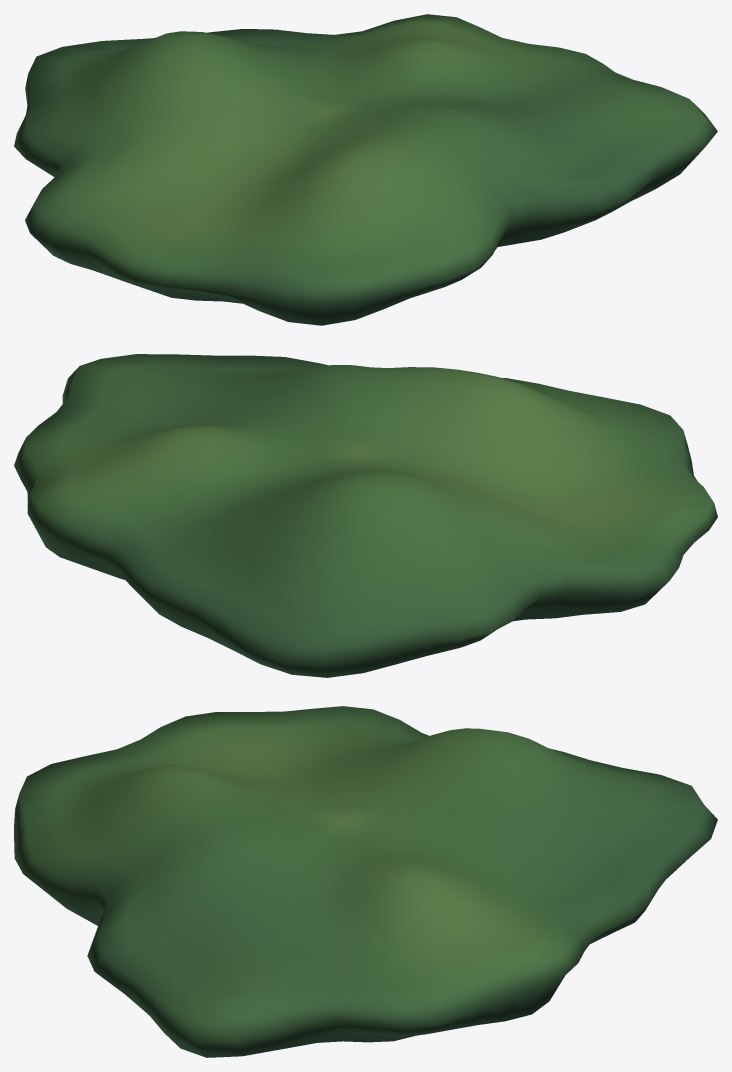
Rendered from ForestCore_A.fbx.
3 views of the same model, one above another, from view 1: azimuth 30°, elevation 25°; view 2: azimuth 150°, elevation 25°; view 3: azimuth 270°, elevation 25° (orthographic). The views are drawn at different scales.
Visible parts, largest first — view 1: ForestCore_A; view 2: ForestCore_A; view 3: ForestCore_A.
Part boxes in pixels (bbox=[...]): ForestCore_A: bbox=[14, 14, 717, 325]; ForestCore_A: bbox=[14, 354, 717, 677]; ForestCore_A: bbox=[14, 706, 717, 1057].
Size of the model in its own units: 3705 by 737 by 3345.
Materials: 1 (1 with a texture image).
